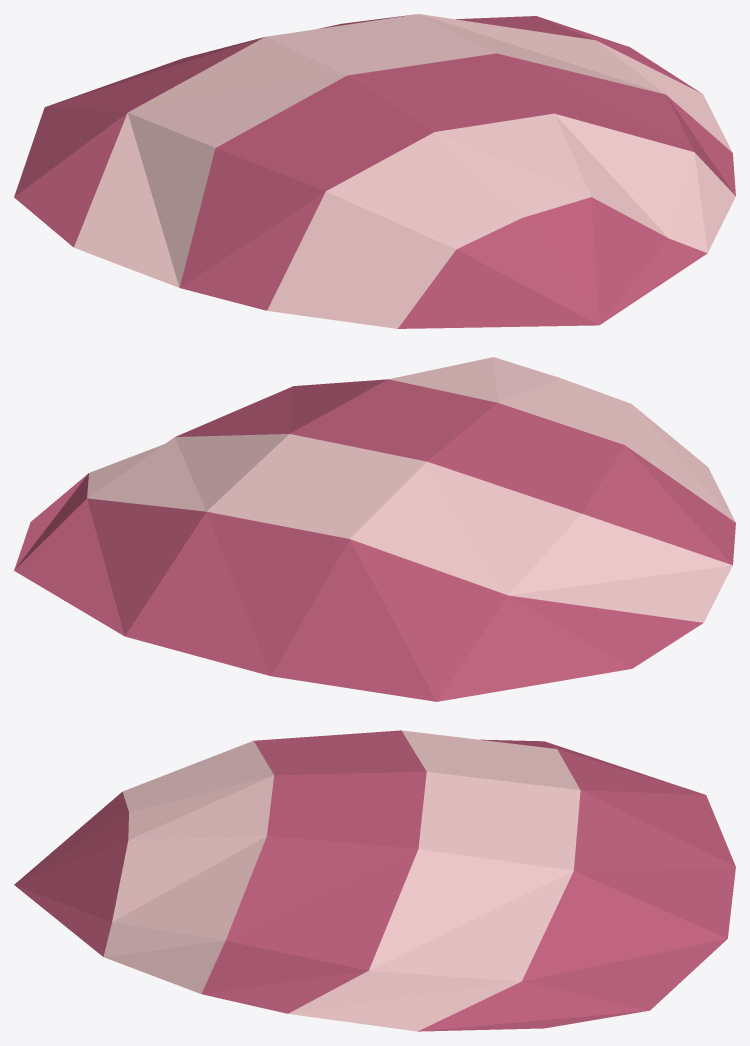
File: zhuangshi_04.FBX
3 views of the same model, one above another, from view 1: azimuth 30°, elevation 25°; view 2: azimuth 150°, elevation 25°; view 3: azimuth 270°, elevation 25° (orthographic). The views are drawn at different scales.
Visible parts, largest first — view 1: zhuangshi_04; view 2: zhuangshi_04; view 3: zhuangshi_04.
Part boxes in pixels (left/top/right/bottom): zhuangshi_04: left=14, top=14, right=735, bottom=328; zhuangshi_04: left=14, top=357, right=735, bottom=701; zhuangshi_04: left=14, top=730, right=735, bottom=1031.
Size of the model in its own units: 124 by 18.91 by 129.
